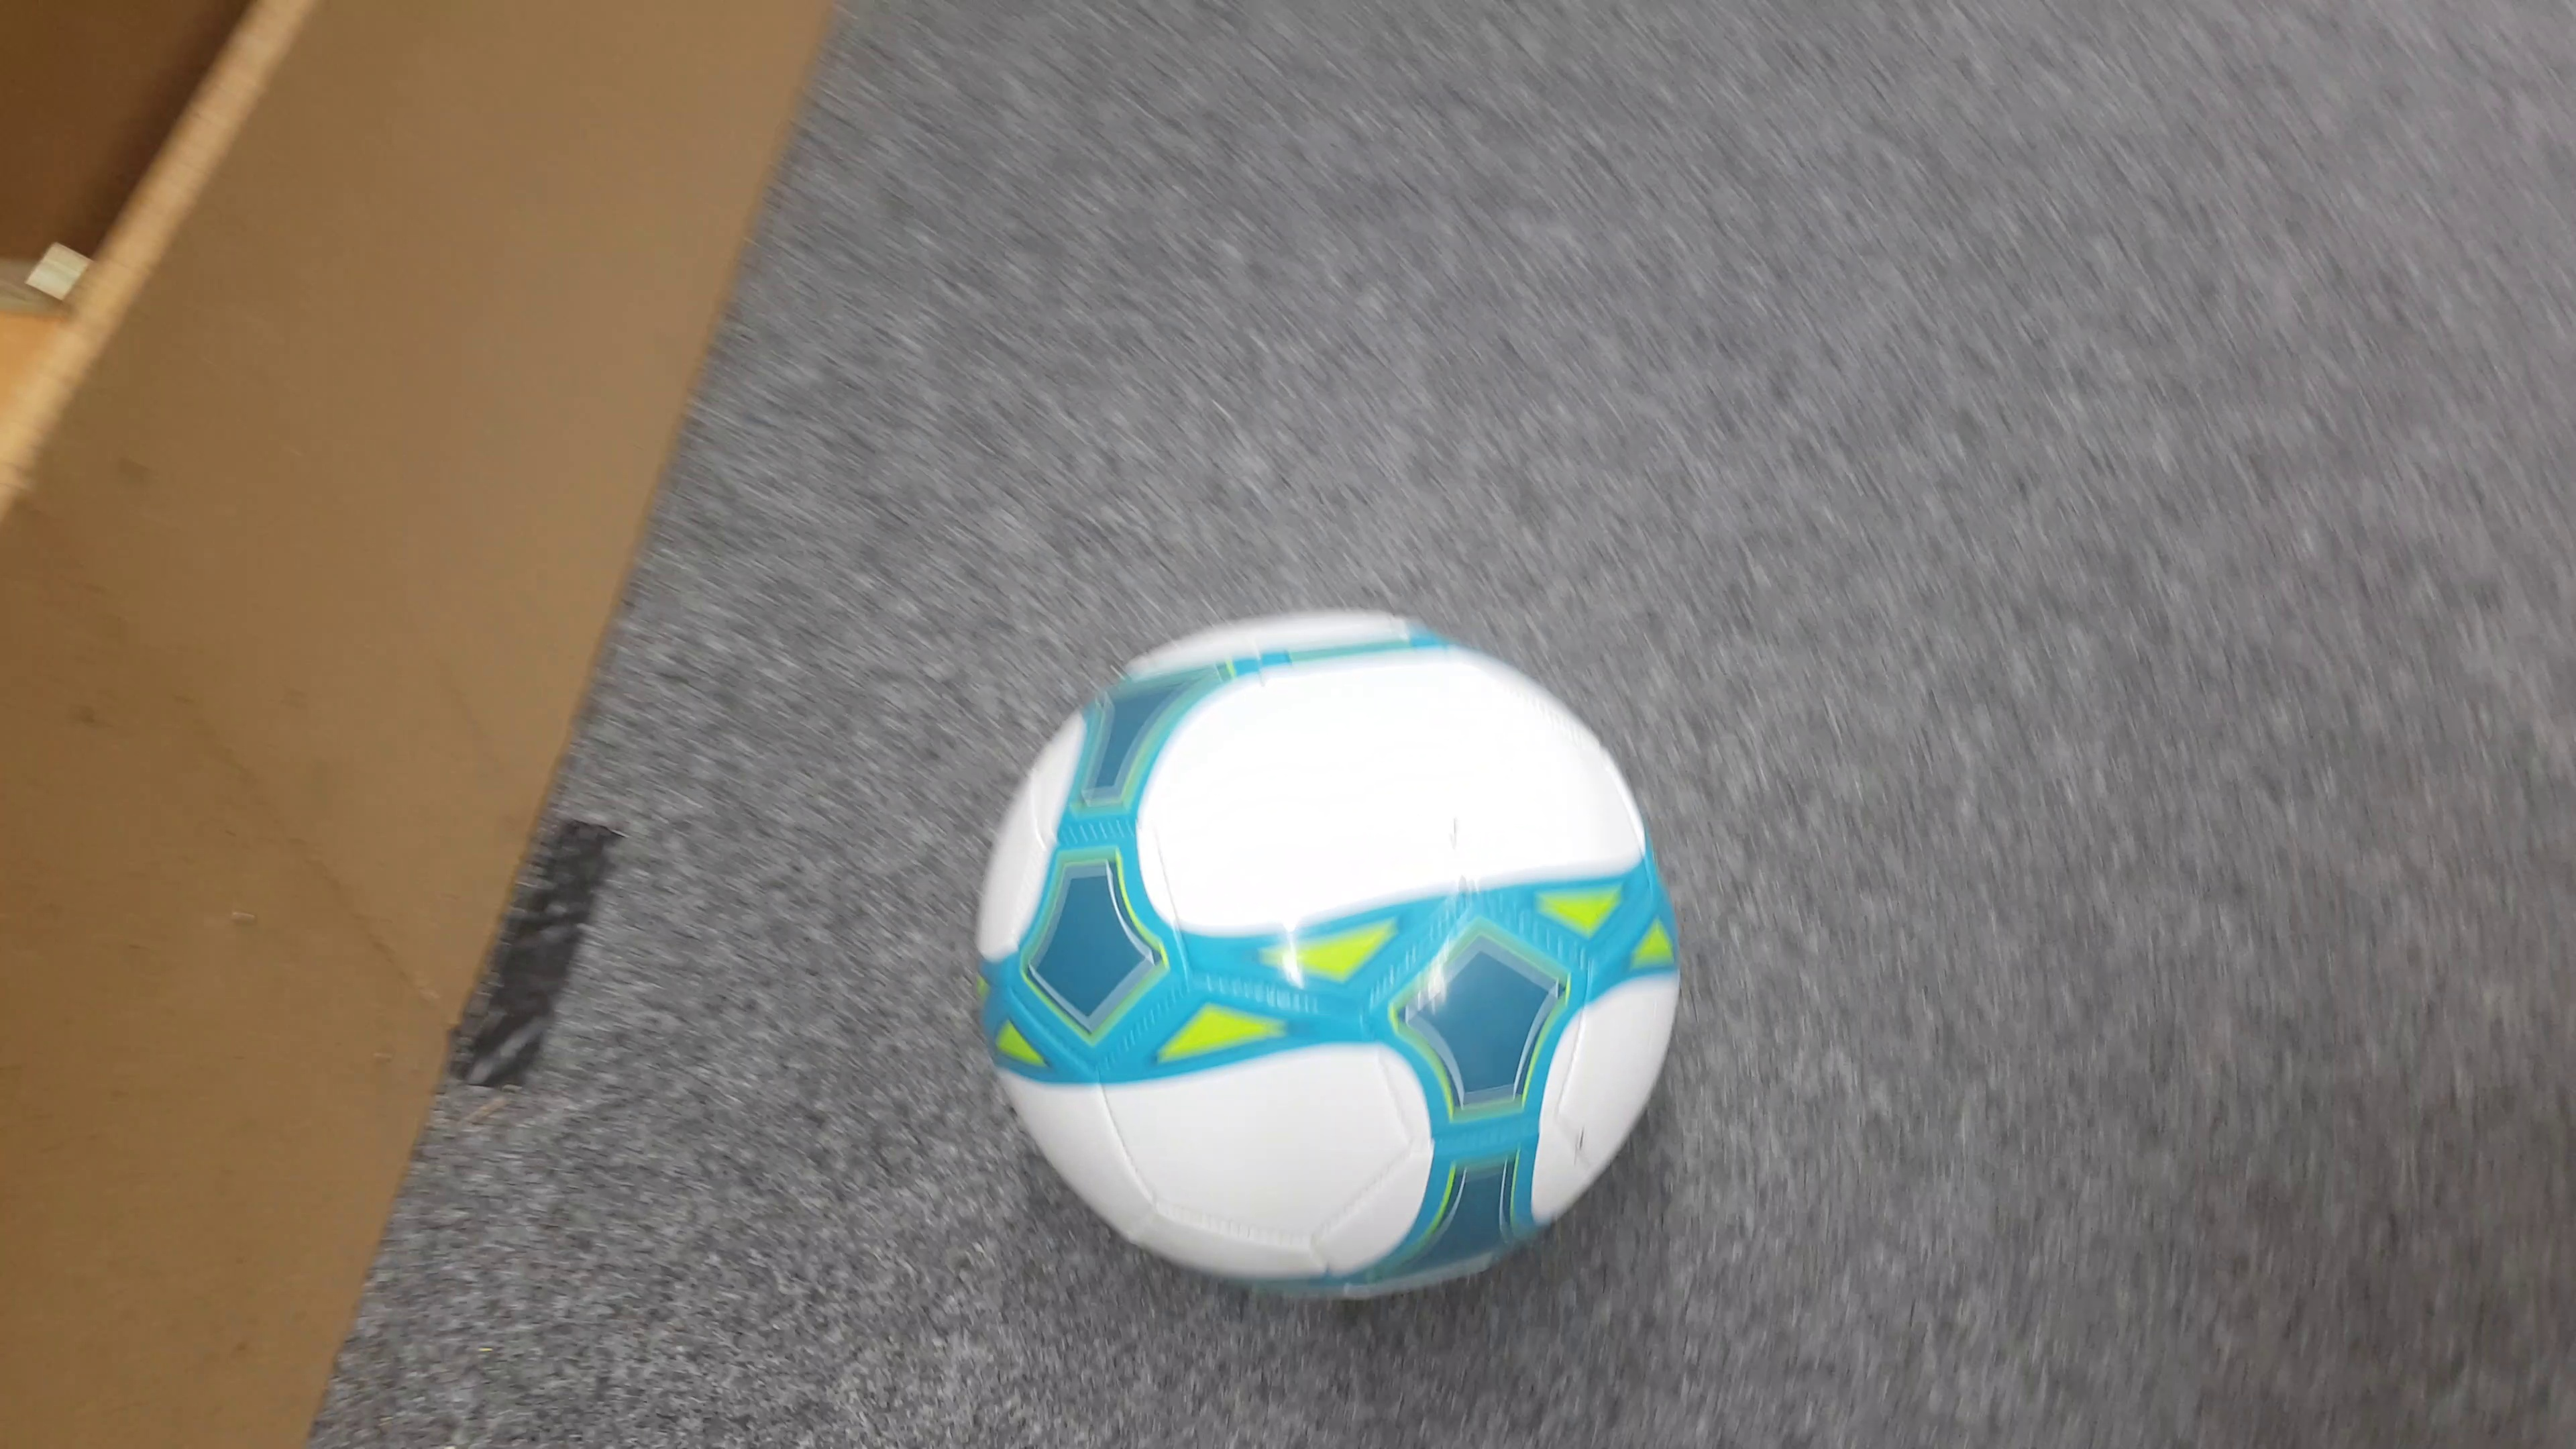kick: (970, 605, 1693, 1307)
